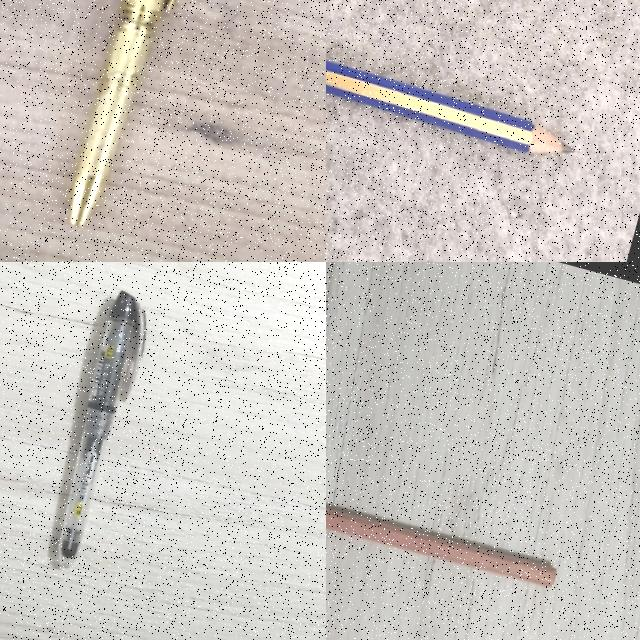pen: (58, 292, 145, 565)
pencil: (326, 62, 573, 153), (326, 507, 555, 586)
signature pen: (70, 0, 173, 226)
